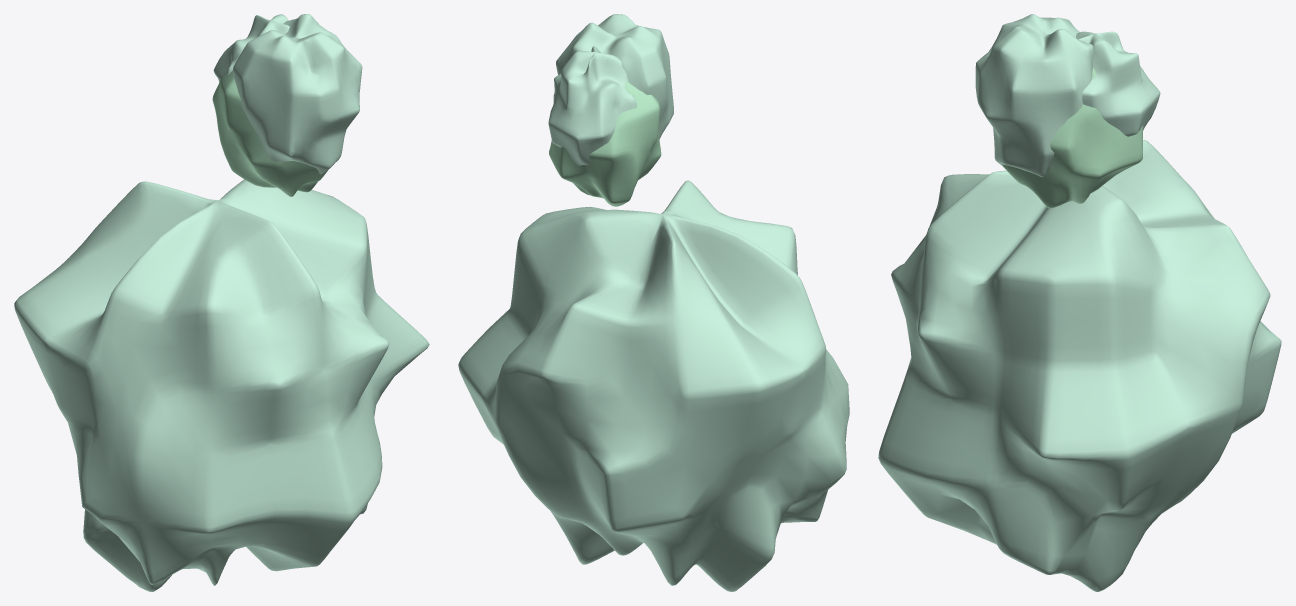
The model's file is PROP_Bush_v2.glb.
3 views of the same model, side by side, from view 1: azimuth 30°, elevation 25°; view 2: azimuth 150°, elevation 25°; view 3: azimuth 270°, elevation 25° (orthographic). The views are drawn at different scales.
Visible parts, largest first — view 1: PROP_Bush_v2; view 2: PROP_Bush_v2; view 3: PROP_Bush_v2.
Boxes of the visible parts, box(x1,y1,x2,y2) form: PROP_Bush_v2: box(14, 14, 429, 591); PROP_Bush_v2: box(458, 14, 849, 591); PROP_Bush_v2: box(878, 14, 1281, 591).
Bounding box in the file's own units: 1.51 × 2.19 × 1.41.
